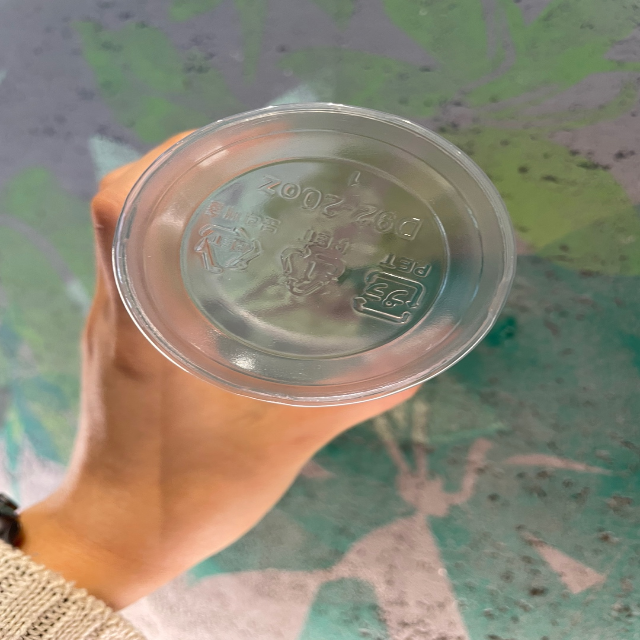pet: (189, 191, 283, 284), (352, 243, 437, 332), (274, 221, 353, 307)
